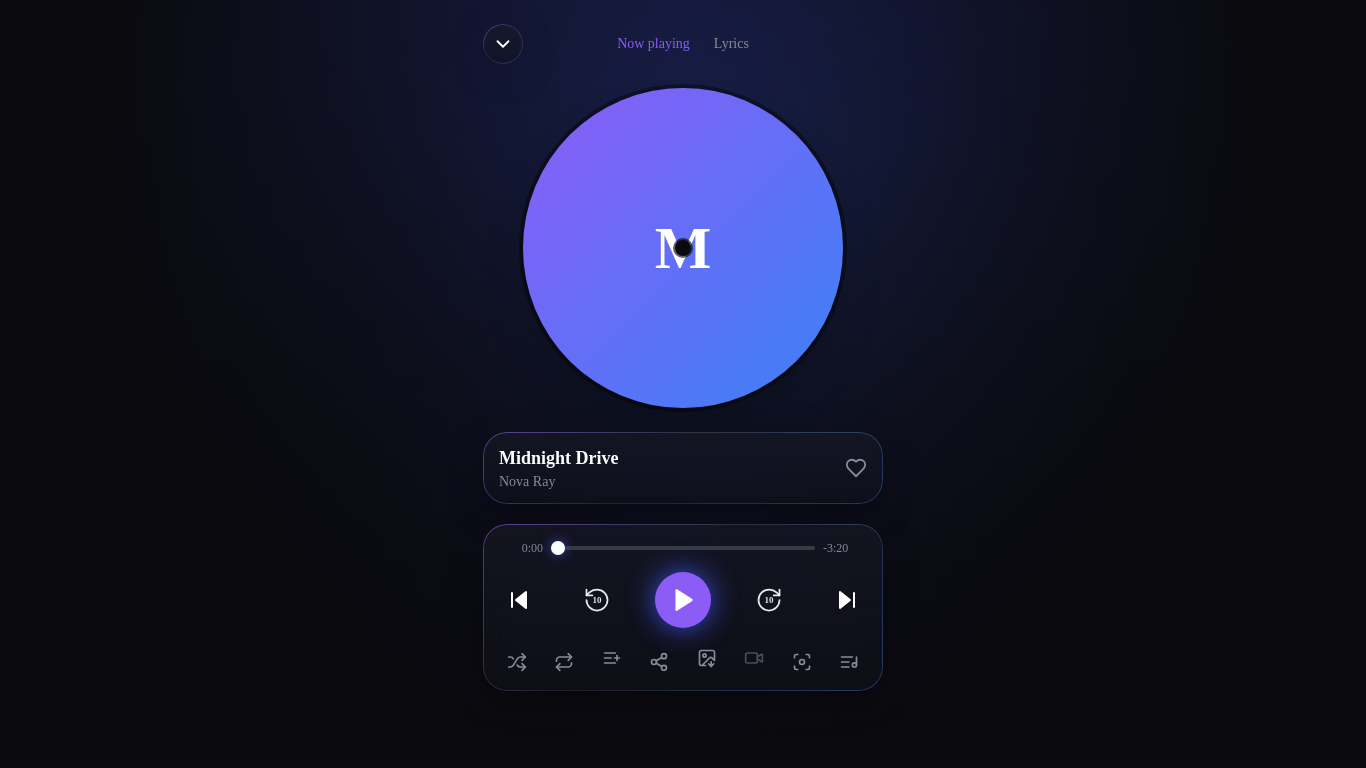
FullScreenPlayer › toggles shuffle and reflects the pressed state from the store
The width and height of the screenshot is (1366, 768).
Click the button named "Shuffle off": (517, 662) x1=507 y1=652 x2=527 y2=672
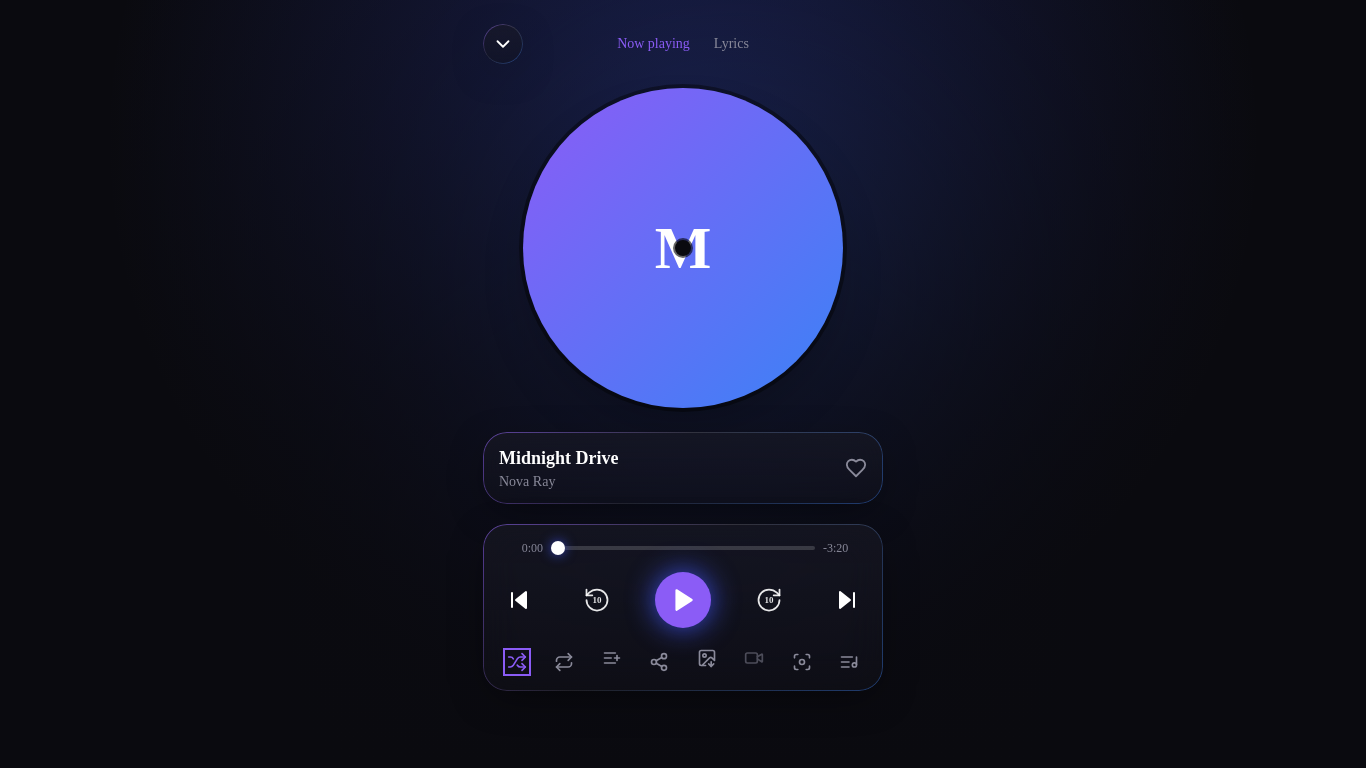
Now the button named "Shuffle on" is pressed, box x1=507 y1=652 x2=527 y2=672
